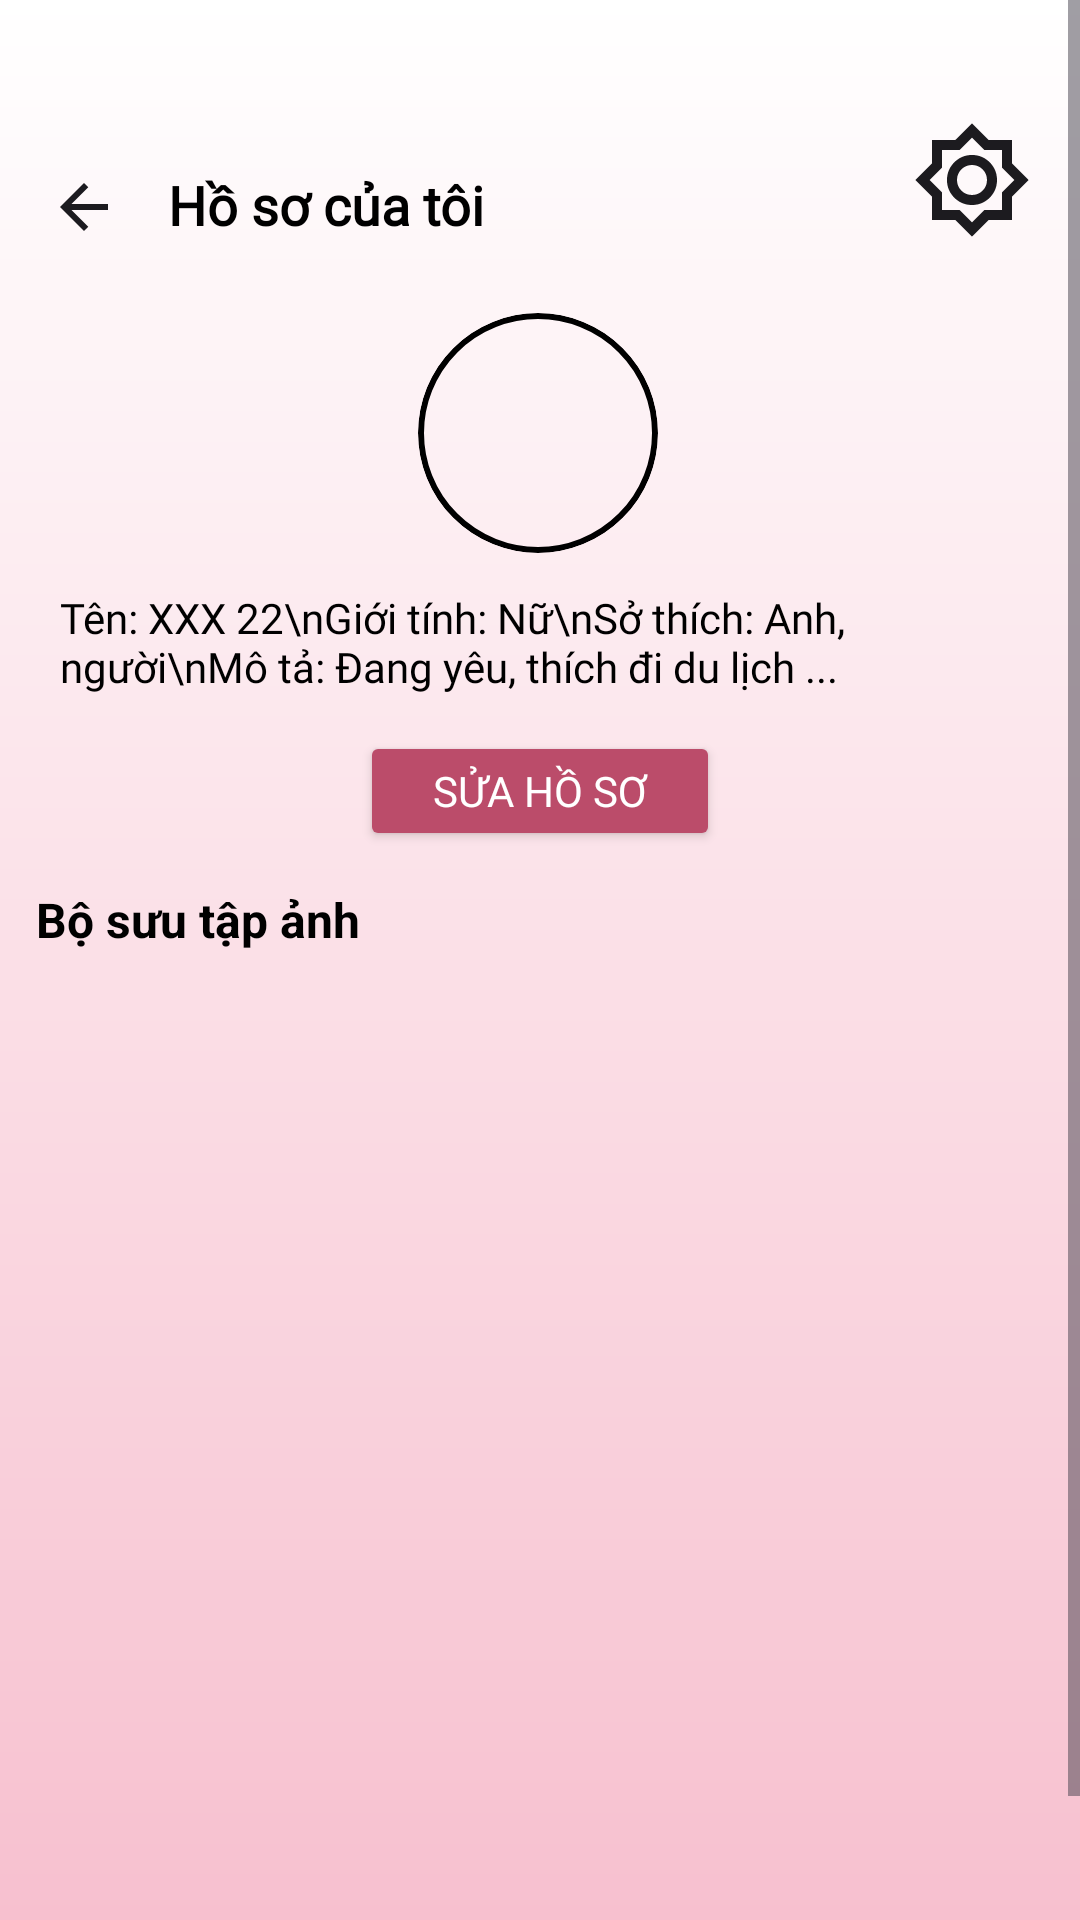

Screen size 1080 x 1920. Icon name, then its box in pixels as box(x1, y1, x2, y2):
Back: box(60, 183, 108, 231)
